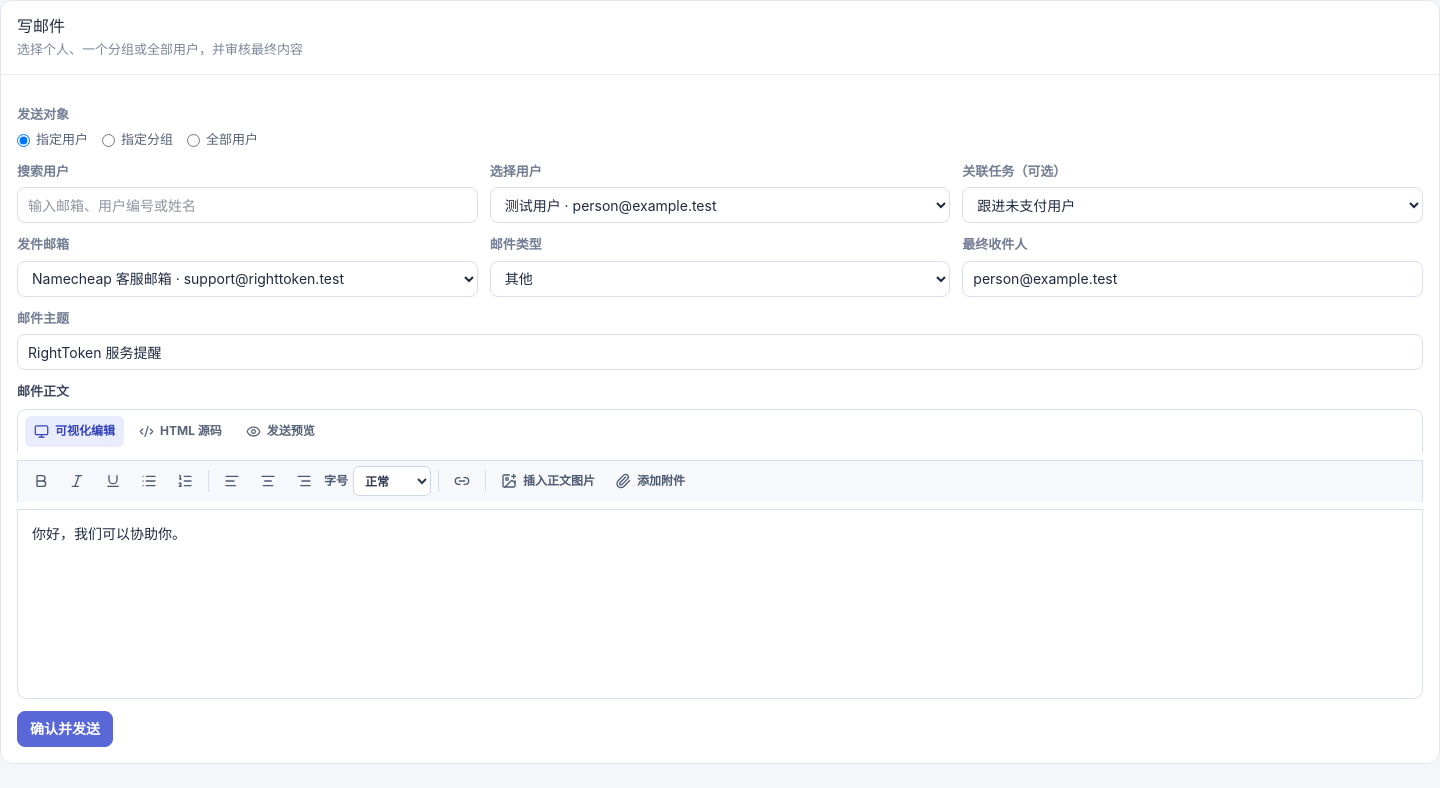
Test case: MailComposer › creates an all-user batch without sending user ids or emails
Click the radio button labelled "全部用户".
click(194, 140)  # box [187,134,200,147]
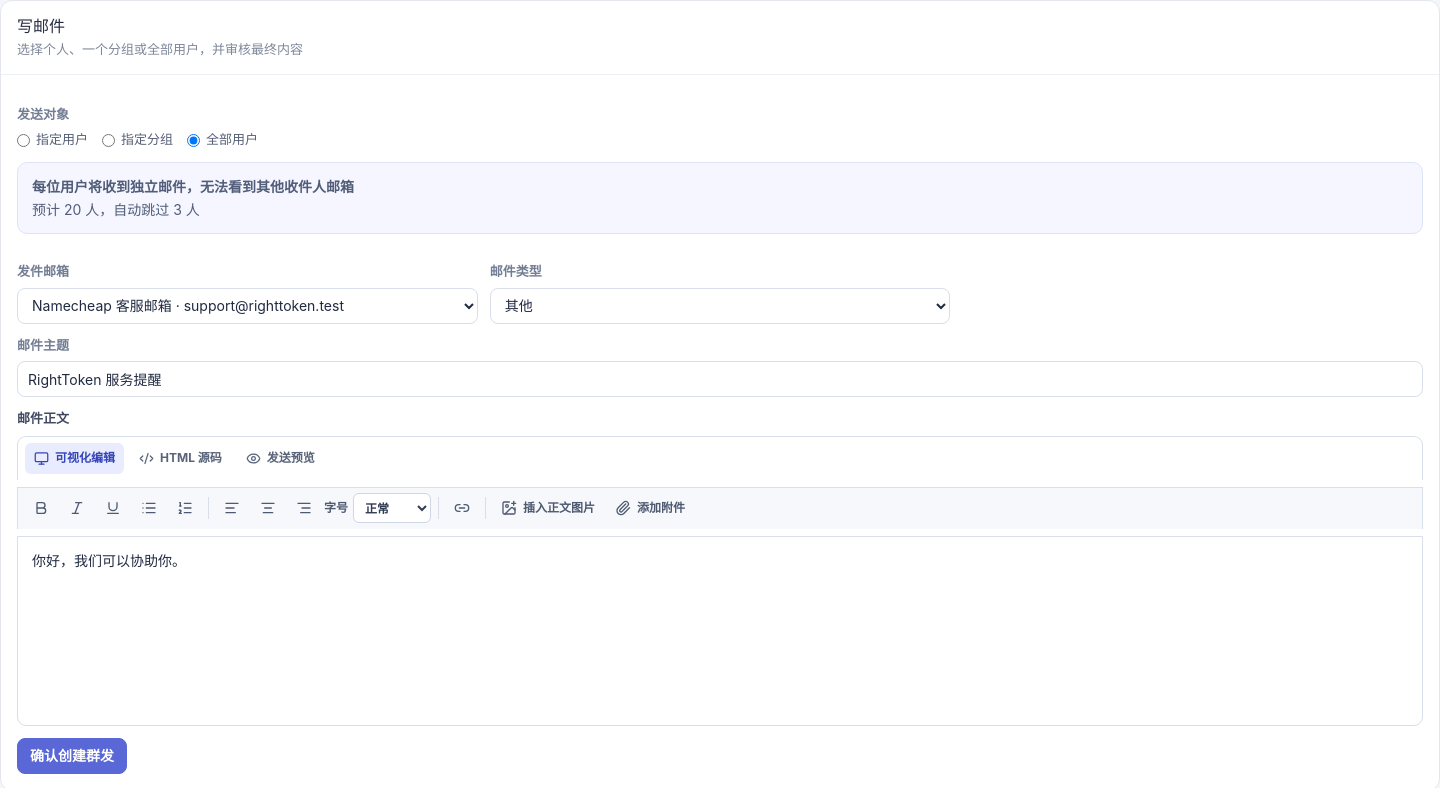
Expected: the text "预计 20 人，自动跳过 3 人" is shown, [32,201,200,218]
Click the button "确认创建群发".
click(72, 756)  # box [17,738,127,774]
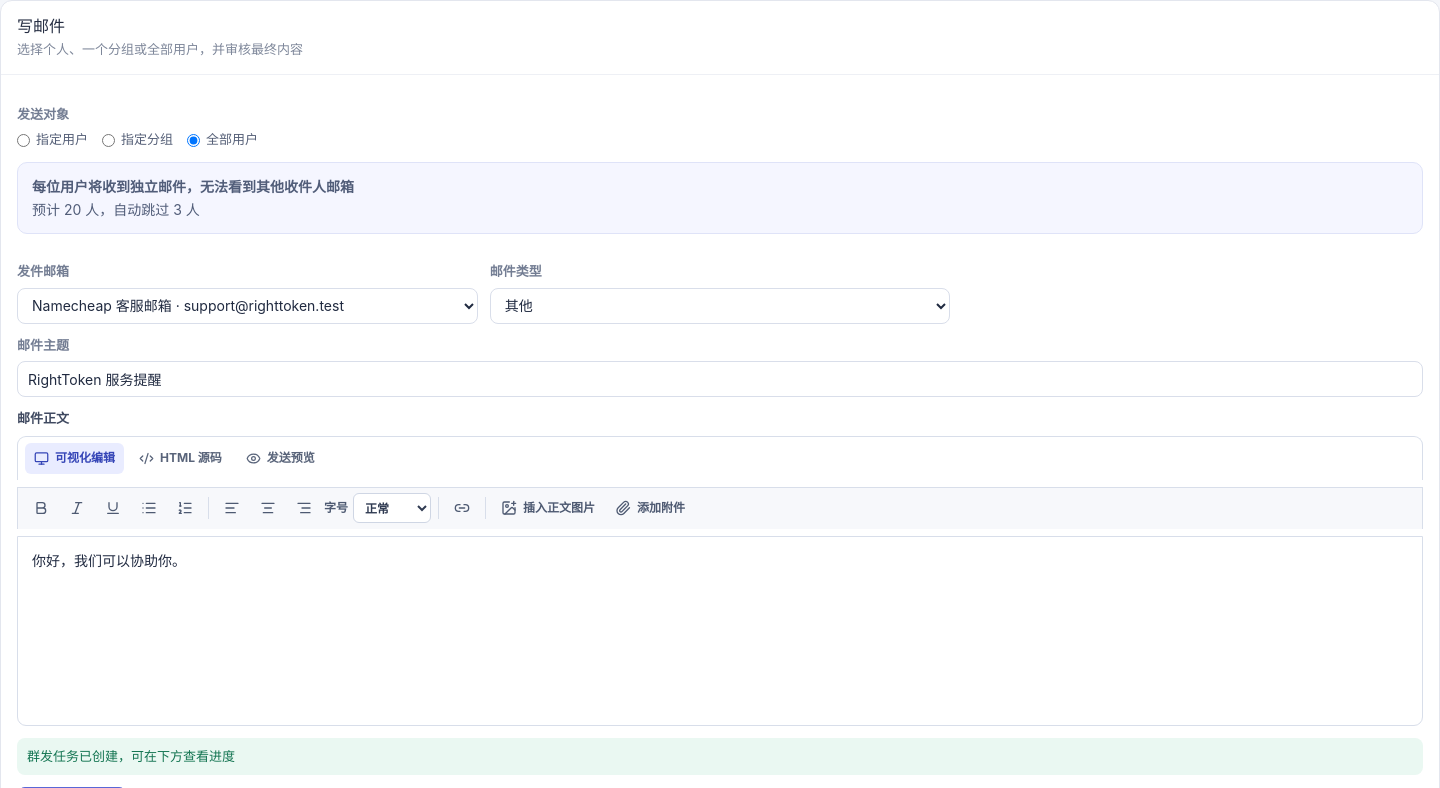
Expected: the text "群发任务已创建，可在下方查看进度" is shown, [17,738,1423,775]
